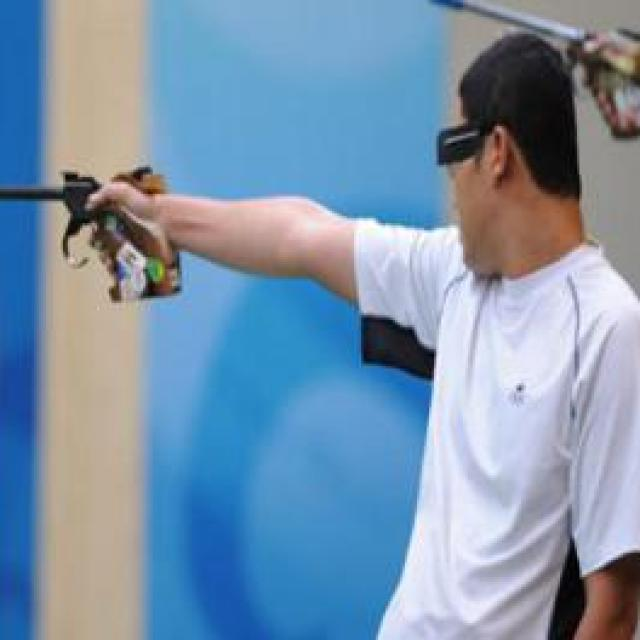pistol: (419, 0, 640, 136), (0, 167, 182, 301)
